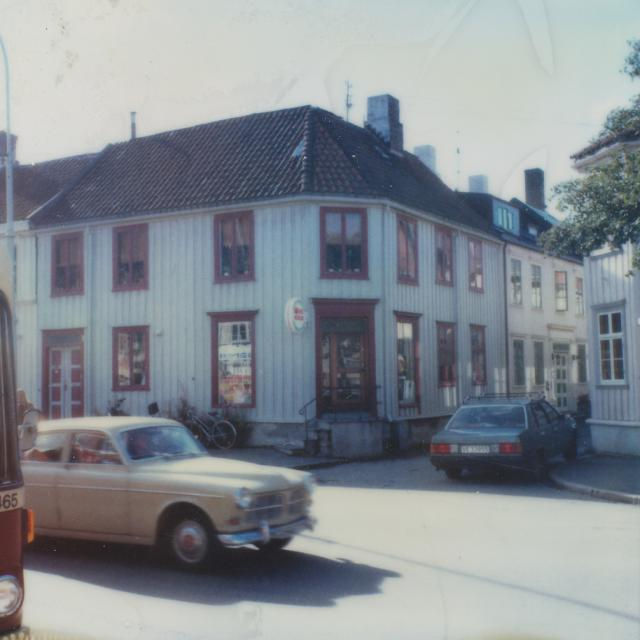car: (430, 388, 580, 482)
